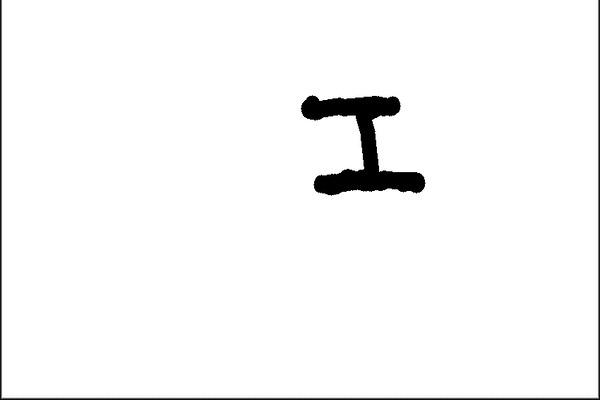i: (287, 80, 437, 211)
